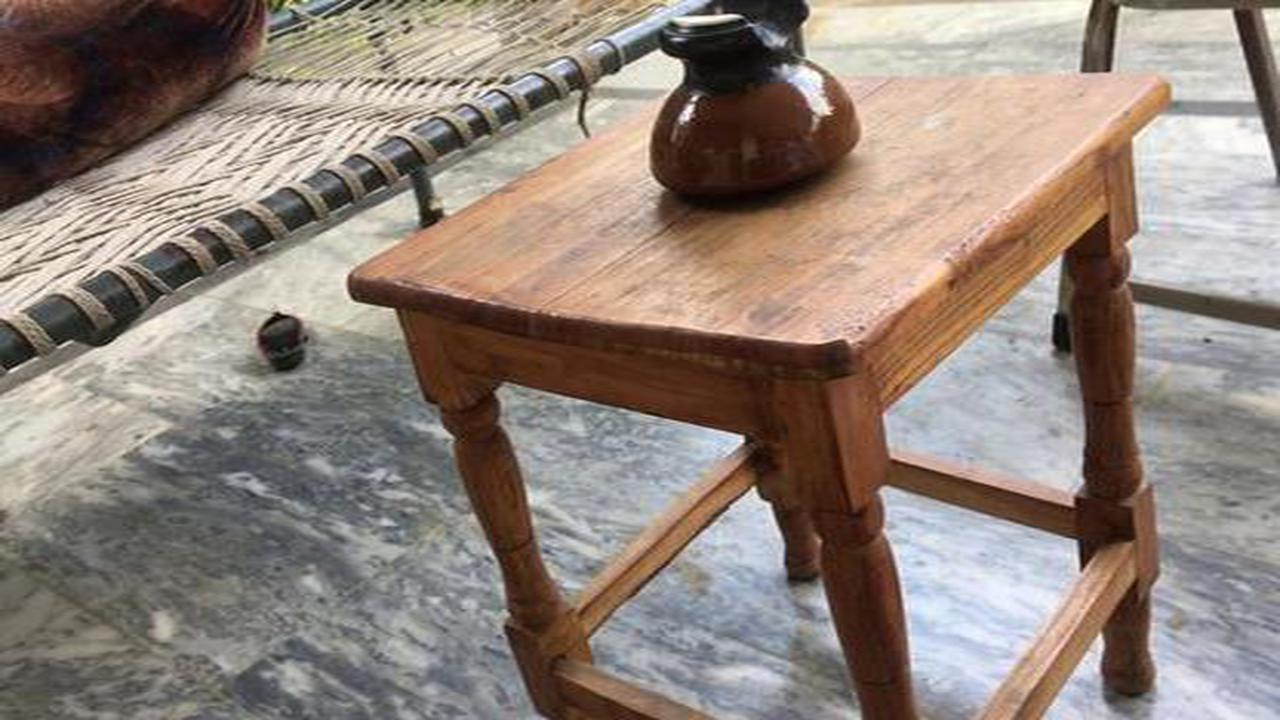insulator_pin: (637, 7, 881, 219)
